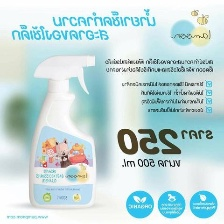cleaning_solution: (25, 52, 100, 211)
